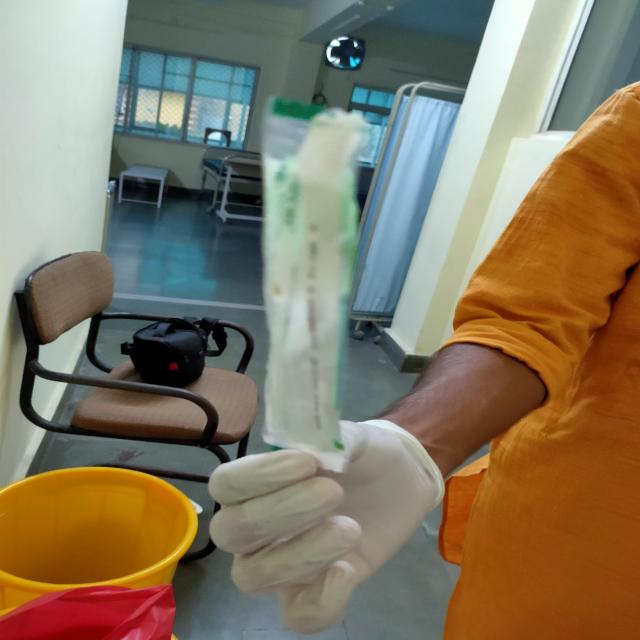B3: (257, 93, 367, 462)
